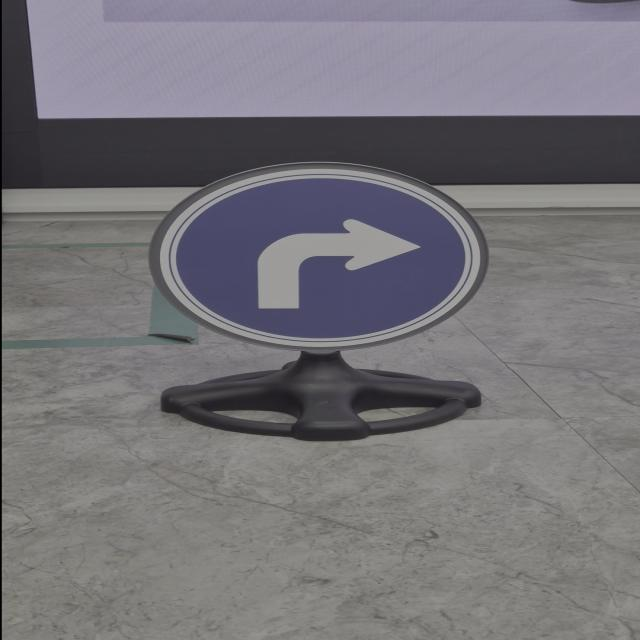right_dierection: (136, 159, 496, 348)
